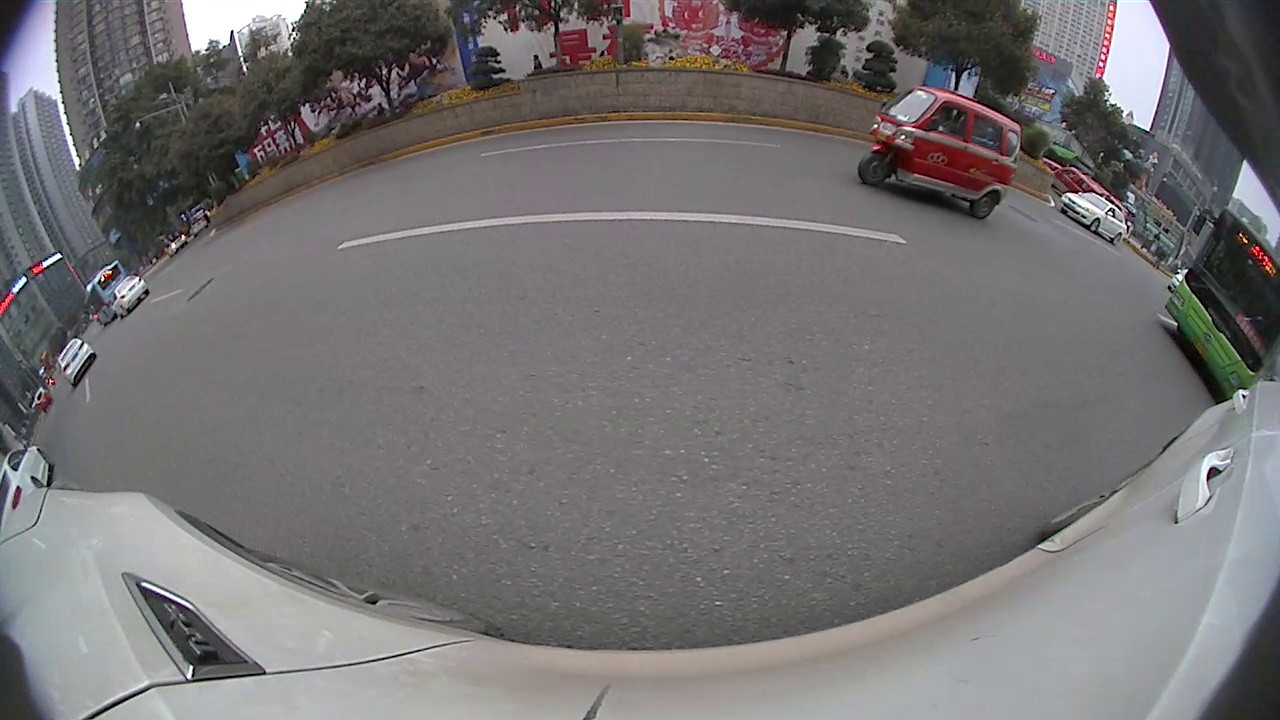bus: (1162, 204, 1279, 405), (84, 261, 128, 327)
car: (0, 445, 51, 522), (1061, 191, 1130, 247), (56, 336, 98, 390), (112, 273, 152, 317)
front: (854, 150, 896, 188), (1087, 220, 1102, 233)
rear: (965, 190, 999, 220), (1111, 233, 1124, 247)
rider: (854, 85, 1022, 221), (1047, 164, 1098, 196)
